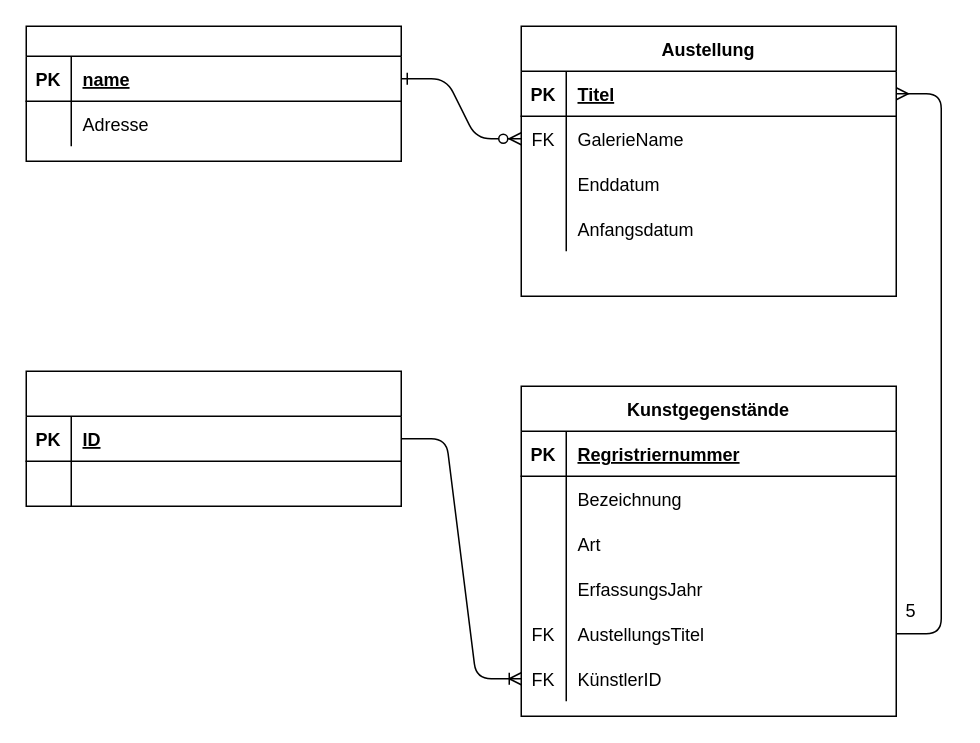
Image size: 980x743. Some labels were removed from this diagram. The shapes that lost their labels are listed below. From the top down, each one's box as (x1, y1, x2, y2) in pixels, then its label:
(25, 25, 401, 161): Galerie
(25, 370, 401, 506): Künstler
